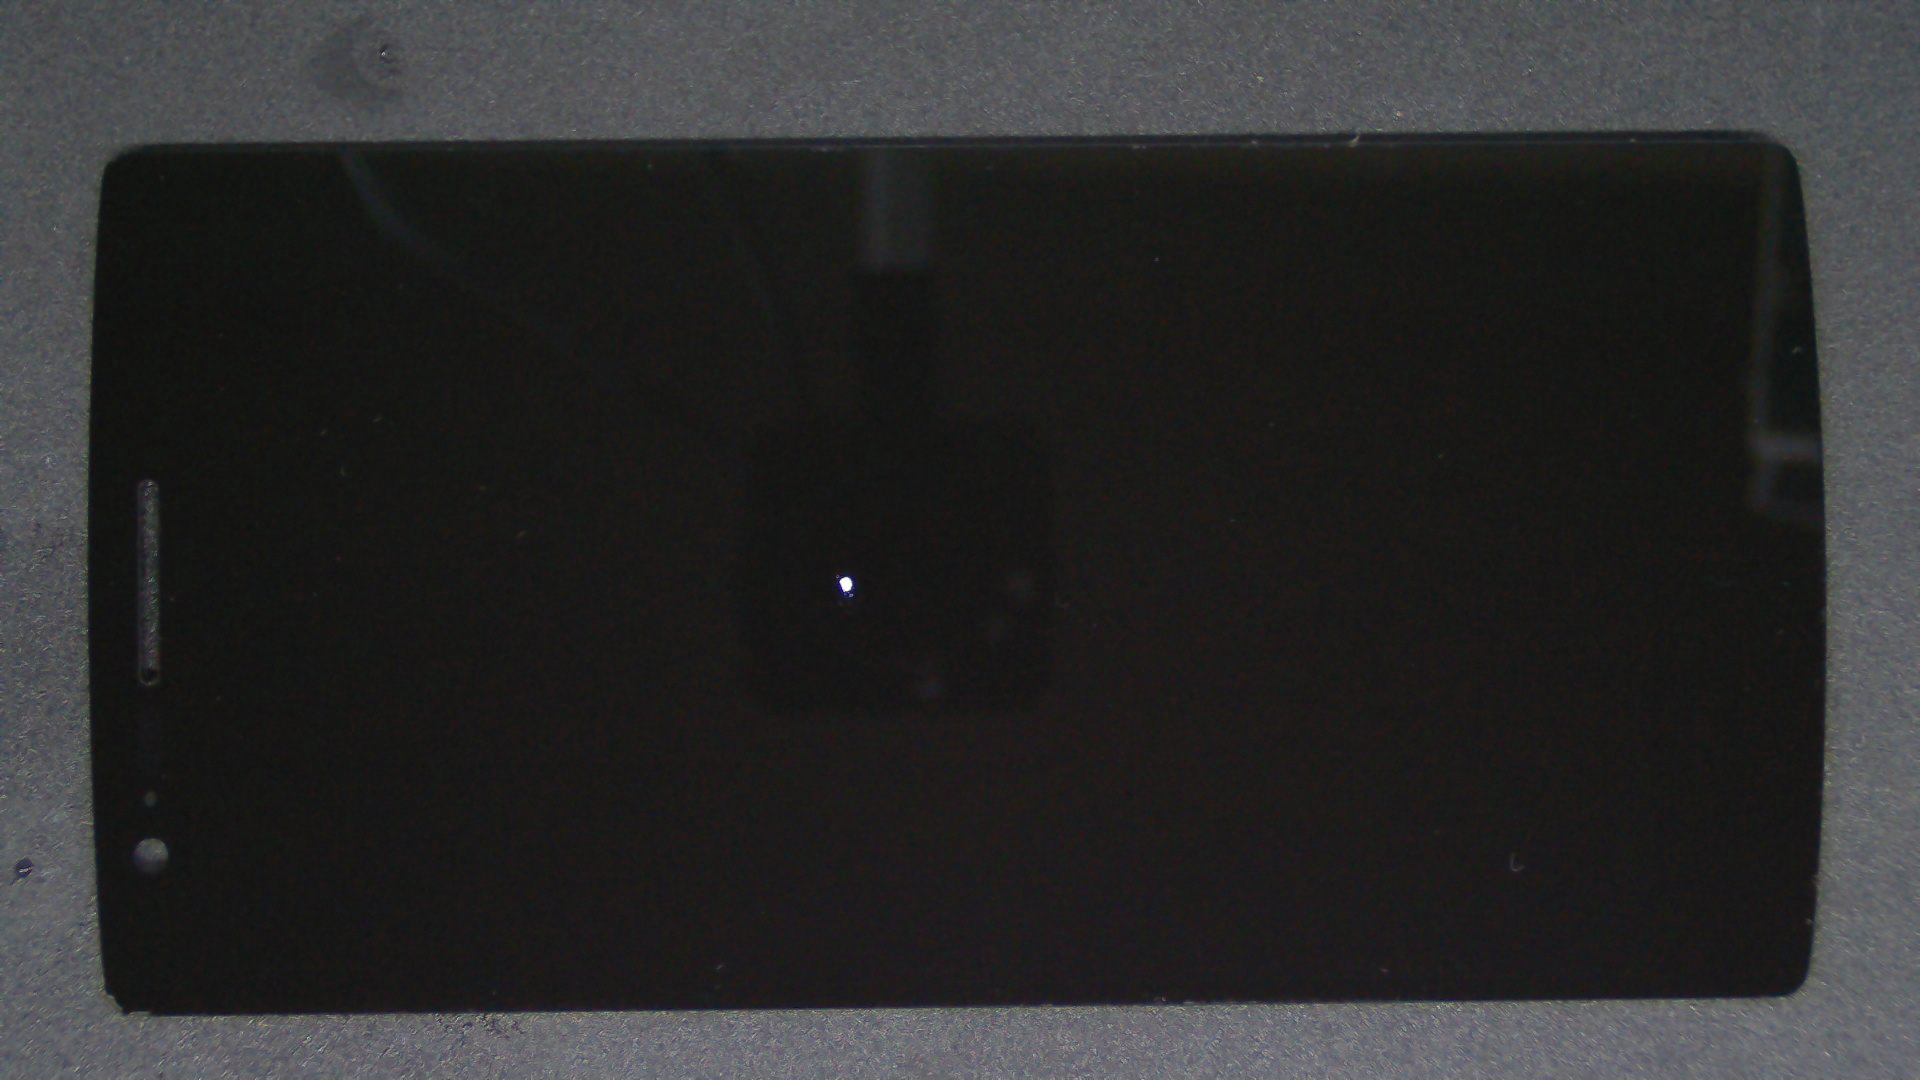defect: (837, 574, 855, 593)
